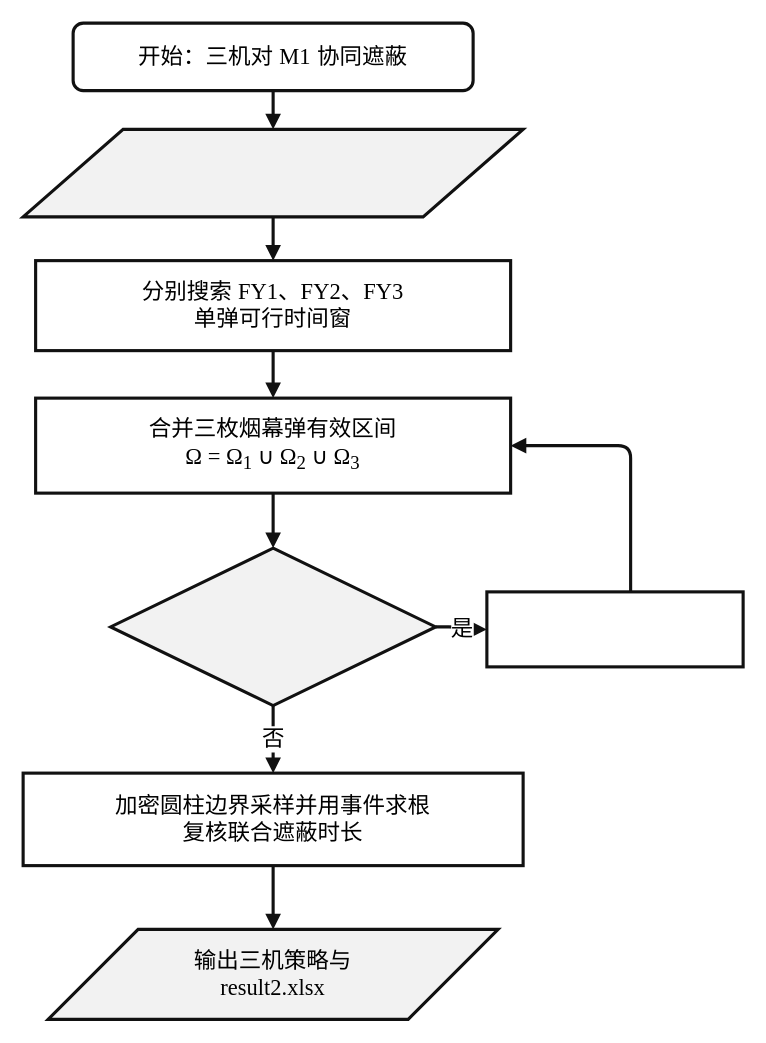
This 766x1043 diagram has some shape labels left out. The shapes that lost their labels are listed below. From the top down, each one's centre as x and y in pixels, then its label:
At pixel 272 172: "输入三架无人机初始位置与 问题二单弹评价器".
At pixel 272 626: "时间窗是否明显重叠？".
At pixel 614 629: "联合调整投放与起爆时刻".
